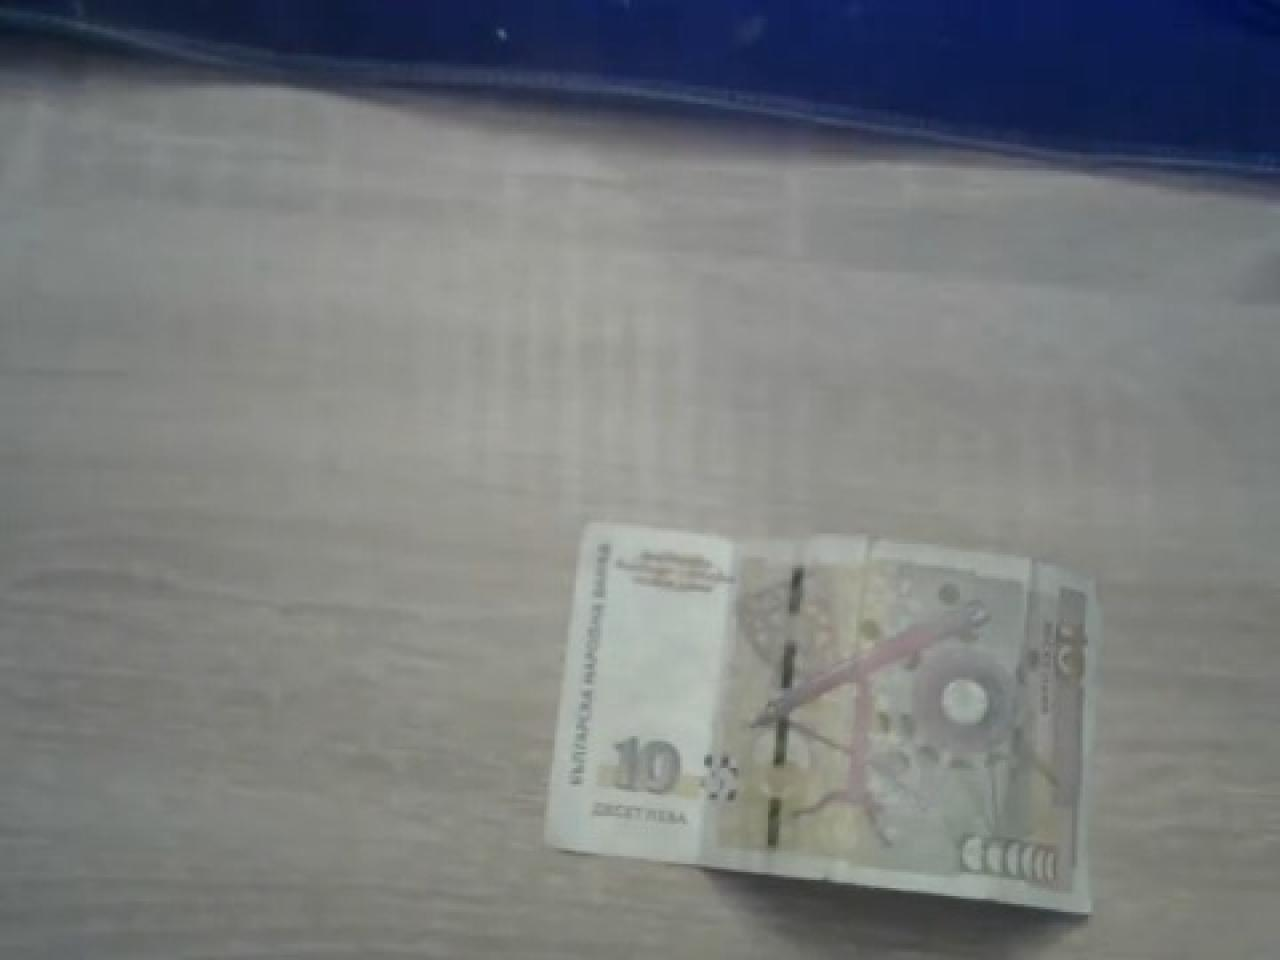10leva: (544, 522, 1102, 918)
